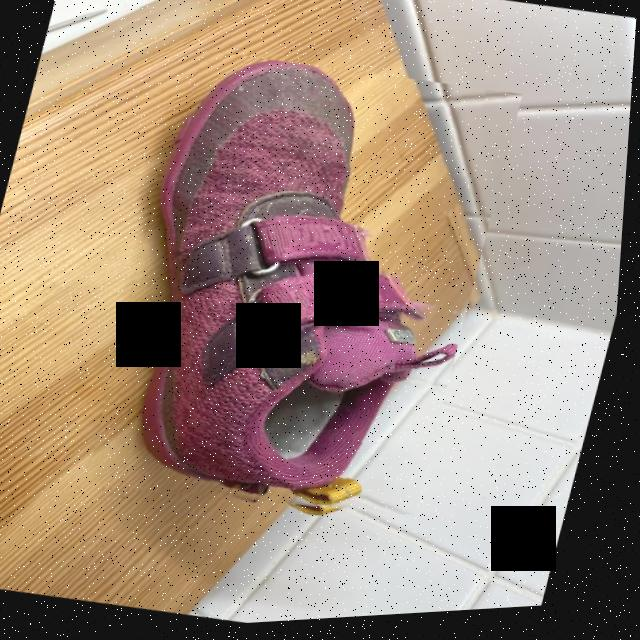shoe: (82, 36, 527, 551)
